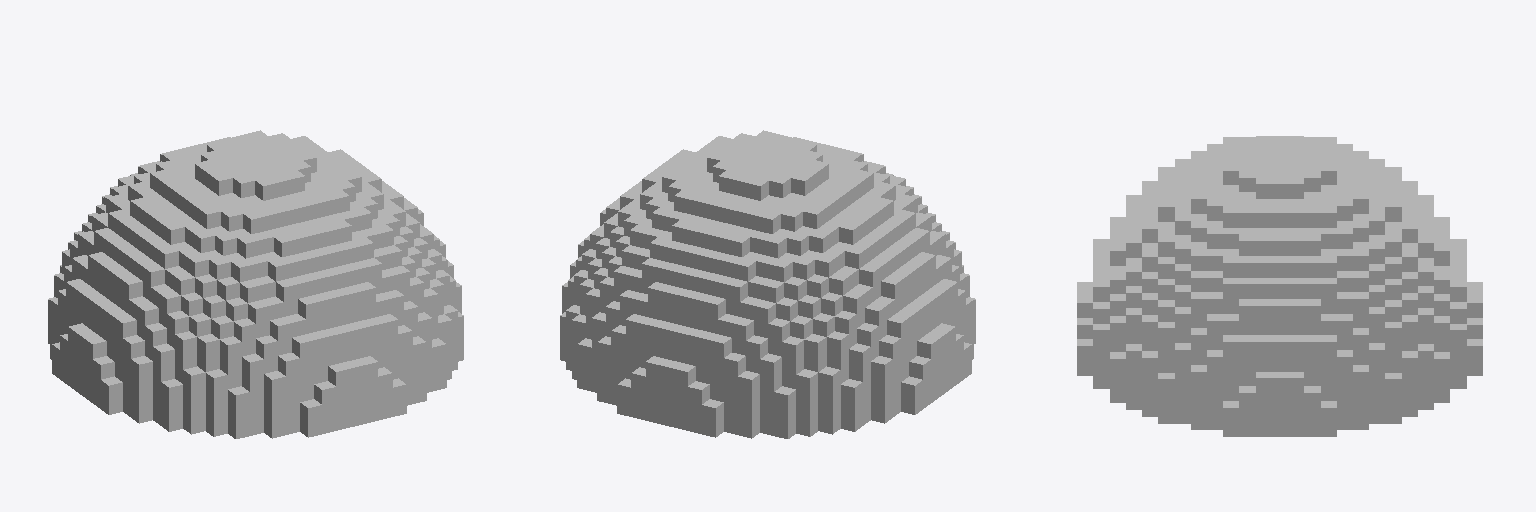
Rendered from Rock.obj.
The picture shows the model from 3 angles: view 1: azimuth 30°, elevation 25°; view 2: azimuth 150°, elevation 25°; view 3: azimuth 270°, elevation 25°; orthographic projection.
Visible parts, largest first — view 1: Rock; view 2: Rock; view 3: Rock.
Part boxes in pixels (bbox=[...]): Rock: bbox=[48, 130, 463, 438]; Rock: bbox=[560, 130, 975, 438]; Rock: bbox=[1077, 136, 1482, 436].
Size of the model in its own units: 25 by 13 by 25.